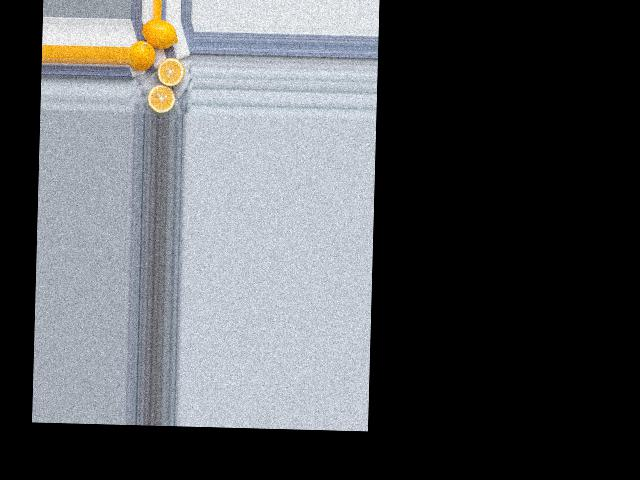lemon: (128, 40, 155, 68)
